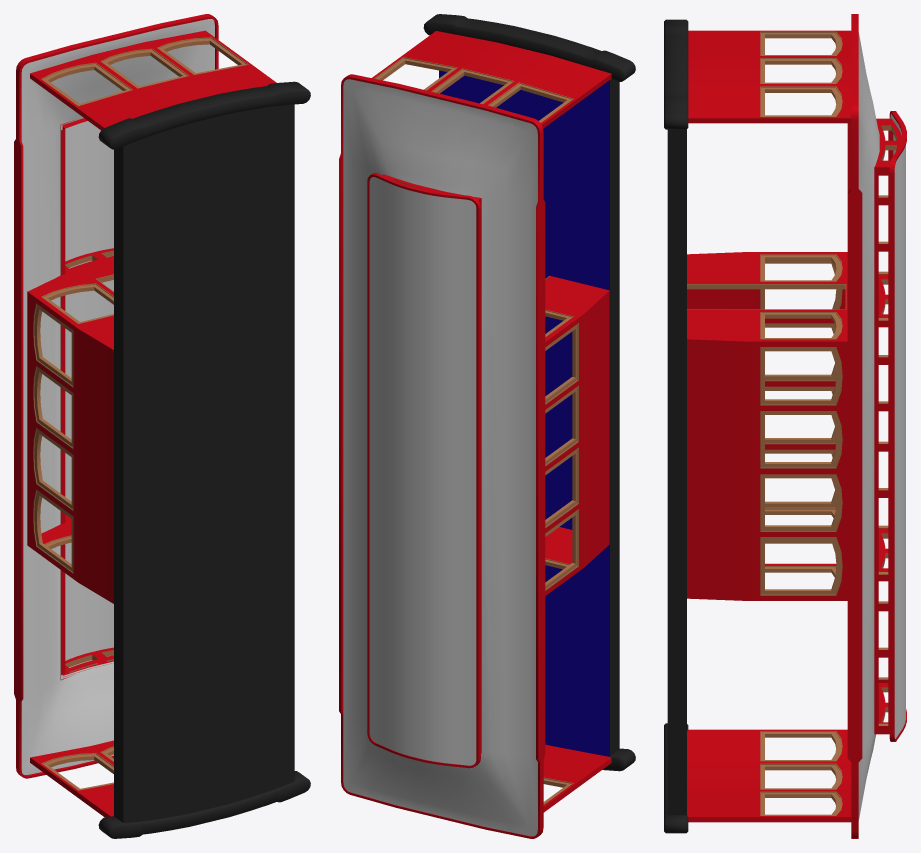
Rendered from CableCar_01_LOD2.fbx.
3 renders of one model, left to right at view 1: azimuth 30°, elevation 25°; view 2: azimuth 150°, elevation 25°; view 3: azimuth 270°, elevation 25°, orthographic. The views are drawn at different scales.
Visible parts, largest first — view 1: CableCar_01_LOD2; view 2: CableCar_01_LOD2; view 3: CableCar_01_LOD2.
Boxes of the visible parts, x1,y1,x2,y2 form: CableCar_01_LOD2: [14, 14, 310, 838]; CableCar_01_LOD2: [339, 14, 635, 838]; CableCar_01_LOD2: [664, 14, 906, 838].
Bounding box in the file's own units: 2.88 × 9.81 × 2.93.
